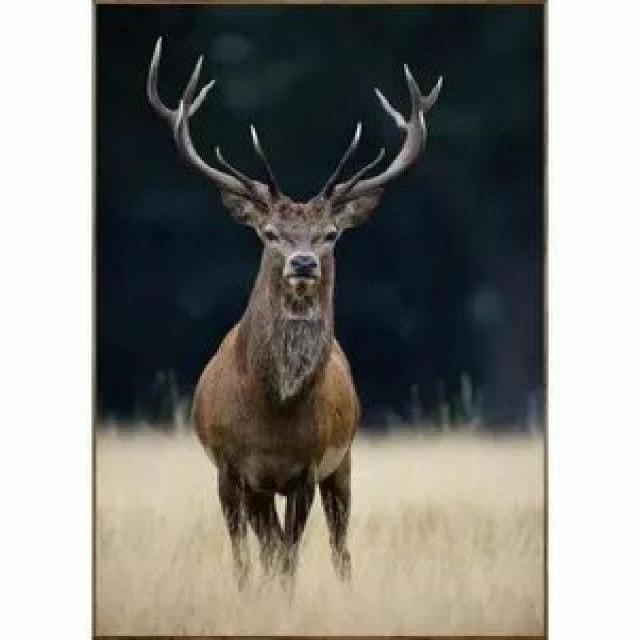deer: (110, 15, 487, 550)
